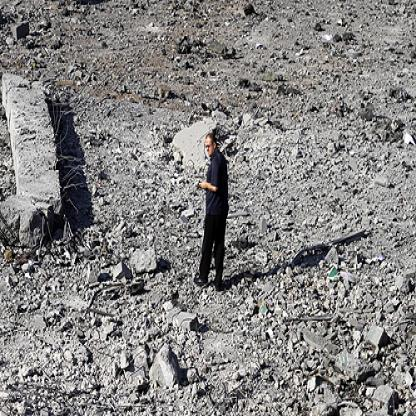person: (189, 120, 238, 305)
